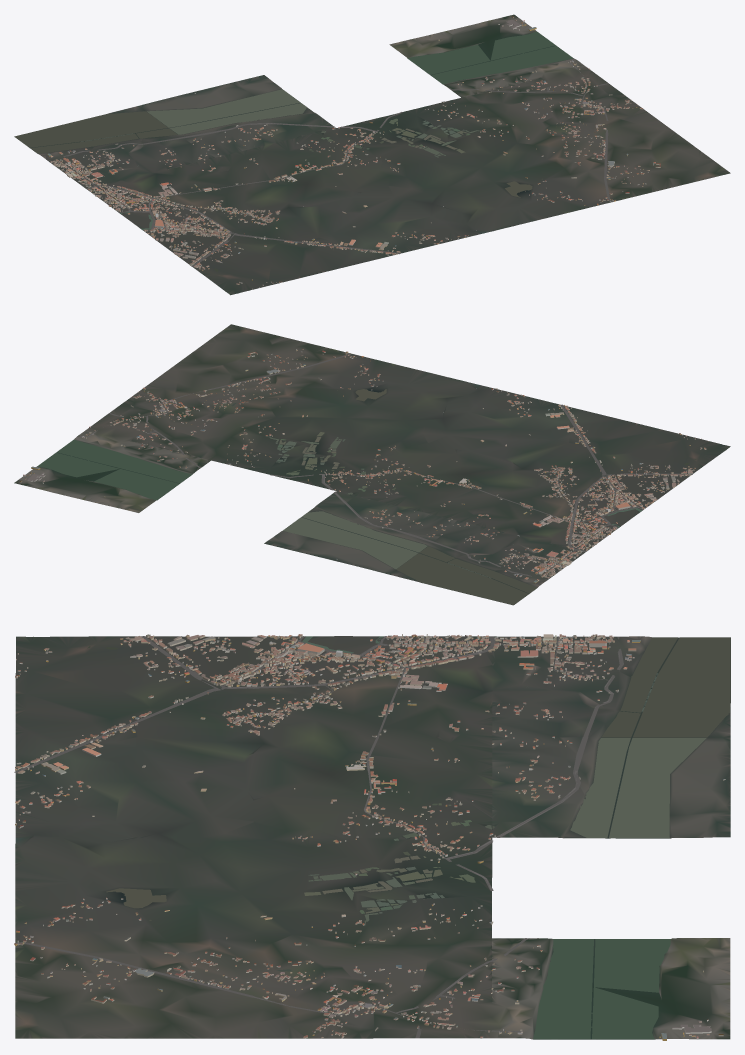
The picture shows the model from 3 angles, top to bottom: view 1: azimuth 30°, elevation 25°; view 2: azimuth 150°, elevation 25°; view 3: azimuth 270°, elevation 25°; orthographic projection. The views are drawn at different scales.
Parts seen in each view (by area): view 1: ground, water, buildings, roads; view 2: ground, water, buildings, roads; view 3: ground, water, buildings, roads.
Part boxes in pixels (bbox=[...]): ground: bbox=[18, 14, 730, 295]; water: bbox=[14, 31, 573, 291]; buildings: bbox=[47, 16, 660, 289]; roads: bbox=[48, 62, 613, 266]; ground: bbox=[14, 324, 730, 605]; water: bbox=[37, 389, 725, 605]; buildings: bbox=[19, 349, 708, 583]; roads: bbox=[85, 353, 692, 579]; ground: bbox=[15, 636, 730, 1039]; water: bbox=[33, 636, 730, 1039]; buildings: bbox=[14, 634, 725, 1040]; roads: bbox=[14, 636, 623, 1038].
Bounding box in the file's own units: 5632 × 37.13 × 4217.
